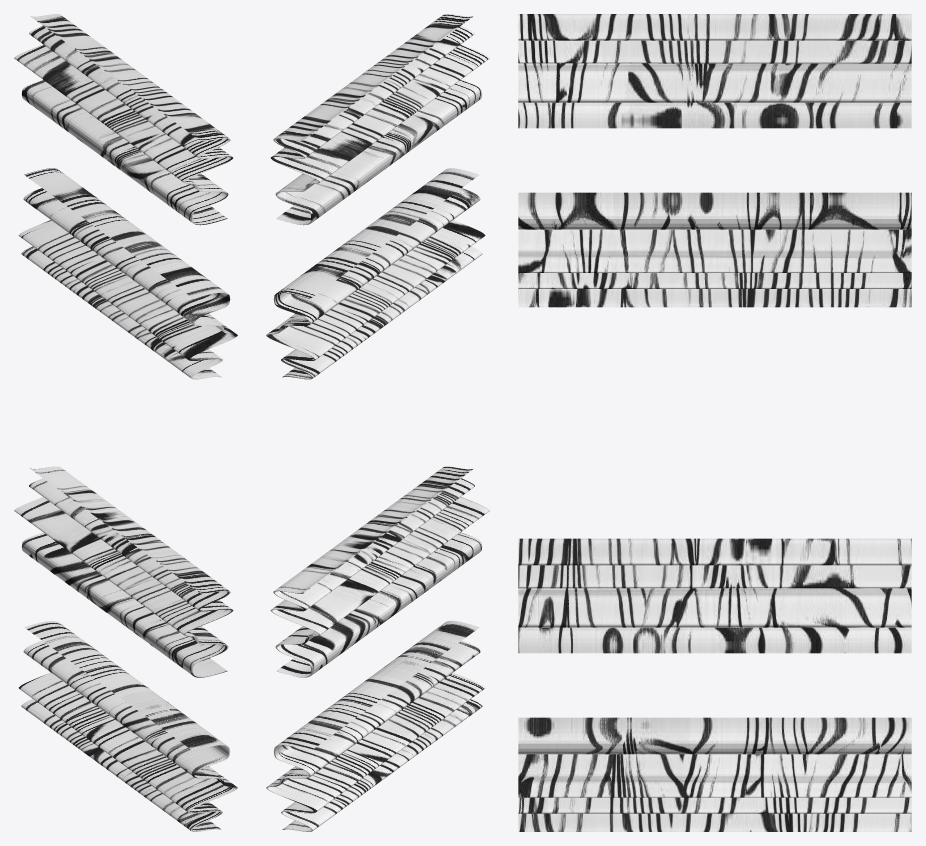
The model's file is cortina.dae.
3 renders of one model, left to right at view 1: azimuth 30°, elevation 25°; view 2: azimuth 150°, elevation 25°; view 3: azimuth 270°, elevation 25°, orthographic. The views are drawn at different scales.
Parts seen in each view (by area): view 1: node; view 2: node; view 3: node.
Part boxes in pixels (<box>): node: <box>14,14,237,831</box>; node: <box>266,14,489,831</box>; node: <box>518,14,911,831</box>.
Size of the model in its own units: 40.31 by 495 by 219.
1 material, 1 textured.
